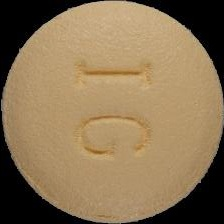61919-172: (0, 0, 224, 224)
